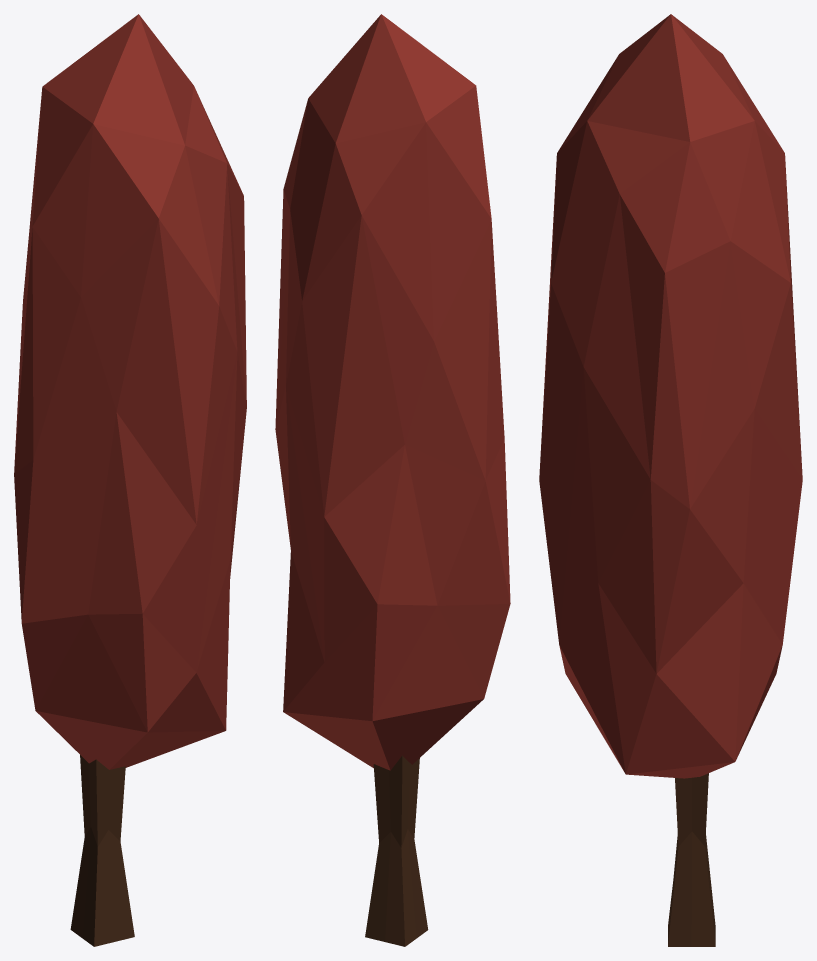
The model's file is Tree_50_Red.fbx.
The picture shows the model from 3 angles, left to right: view 1: azimuth 30°, elevation 25°; view 2: azimuth 150°, elevation 25°; view 3: azimuth 270°, elevation 25°; orthographic projection. The views are drawn at different scales.
Parts seen in each view (by area): view 1: Tree_50_Red_Part_1, Tree_50_Red_Part_2; view 2: Tree_50_Red_Part_1, Tree_50_Red_Part_2; view 3: Tree_50_Red_Part_1, Tree_50_Red_Part_2.
Part boxes in pixels (x1,y1,x2,y2): Tree_50_Red_Part_1: (14, 14, 246, 769); Tree_50_Red_Part_2: (70, 755, 134, 946); Tree_50_Red_Part_1: (275, 14, 510, 770); Tree_50_Red_Part_2: (365, 755, 428, 946); Tree_50_Red_Part_1: (539, 14, 802, 778); Tree_50_Red_Part_2: (668, 773, 715, 946).
Size of the model in its own units: 208 by 810 by 207.
